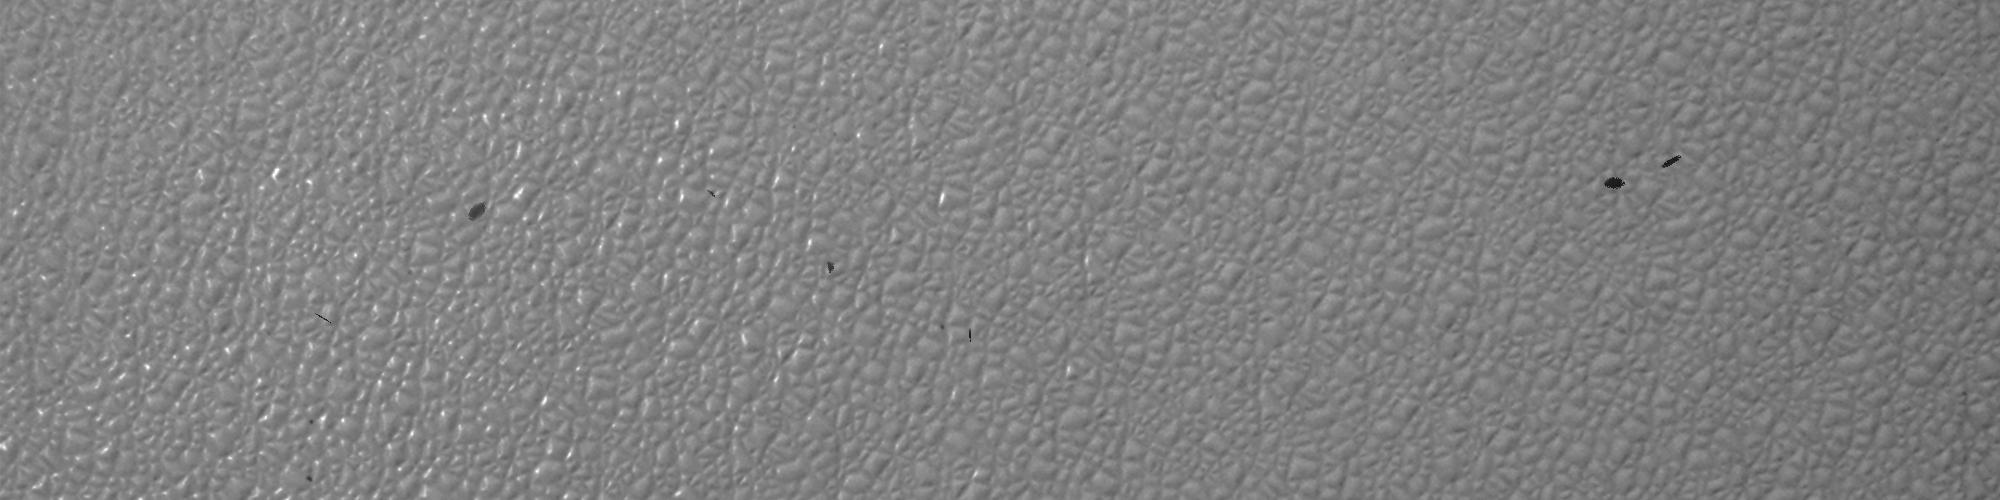Decomposed: (309, 307, 343, 335), (1596, 173, 1639, 193), (460, 200, 489, 224), (819, 250, 841, 278), (960, 327, 989, 344), (302, 468, 319, 491), (700, 185, 723, 202), (306, 411, 320, 430), (1657, 154, 1672, 170)
